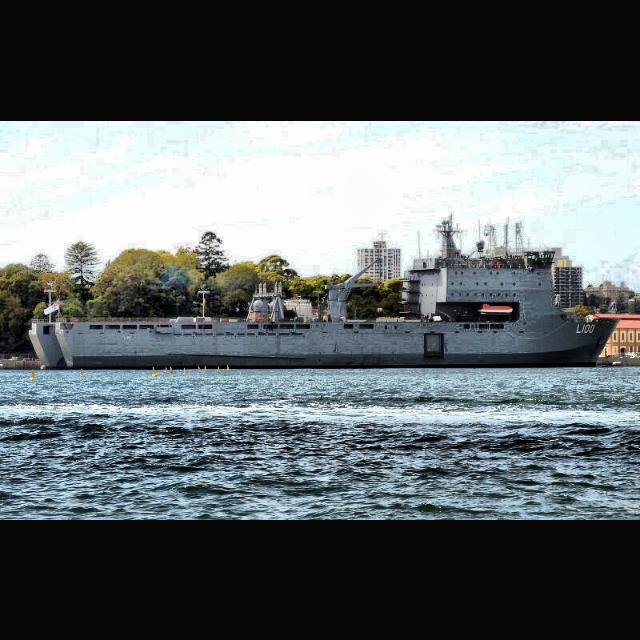combat_vessel: (28, 212, 622, 368)
